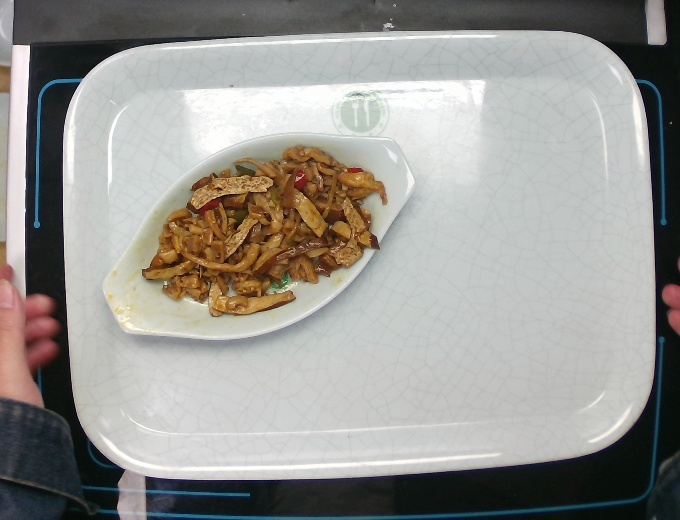JYsf-Yu_Pan: (100, 130, 416, 346)
